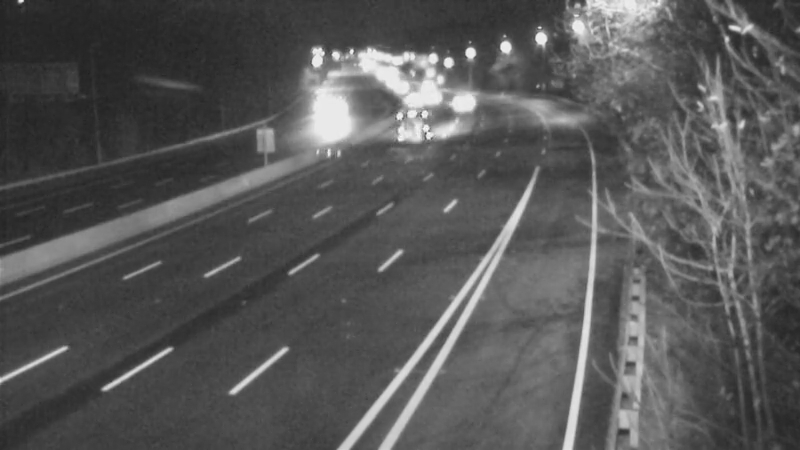vehicle: (439, 77, 489, 127), (390, 74, 440, 124), (388, 100, 438, 150), (303, 100, 353, 150)
